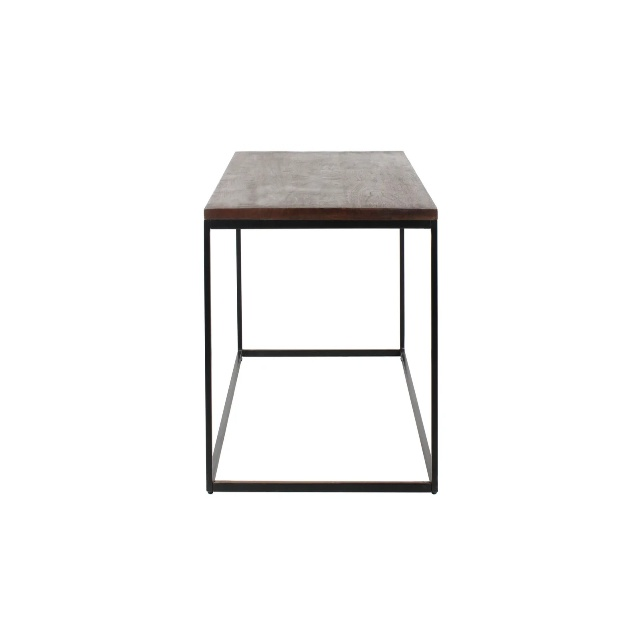obstacle: (204, 151, 437, 493)
